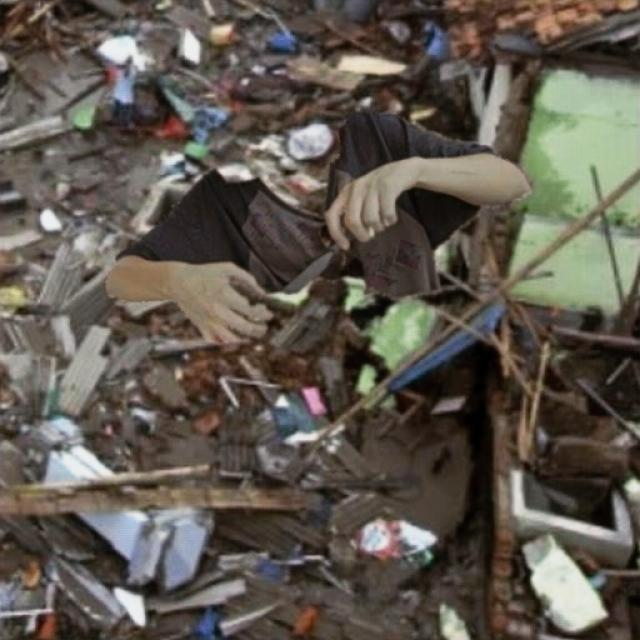Person in Rubble: (105, 112, 530, 342)
